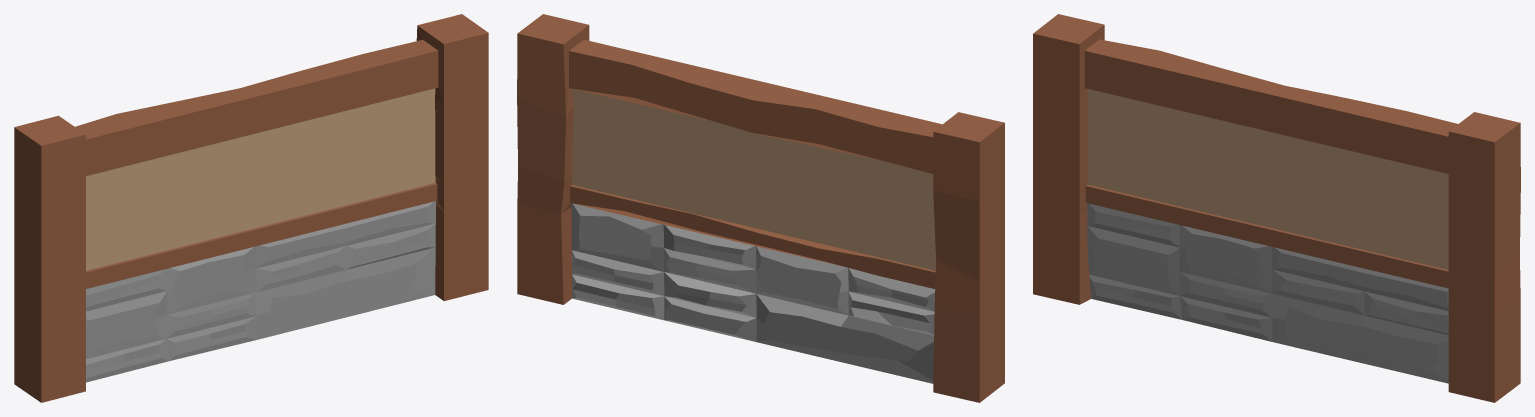
File: Wall.fbx
3 renders of one model, left to right at view 1: azimuth 30°, elevation 25°; view 2: azimuth 150°, elevation 25°; view 3: azimuth 330°, elevation 25°, orthographic.
Parts seen in each view (by area): view 1: Wall; view 2: Wall; view 3: Wall.
Part boxes in pixels (x1,y1,x2,y2): Wall: (14, 14, 488, 402); Wall: (517, 14, 1004, 402); Wall: (1033, 14, 1520, 402).
Size of the model in its own units: 20.04 by 10.88 by 2.39.
